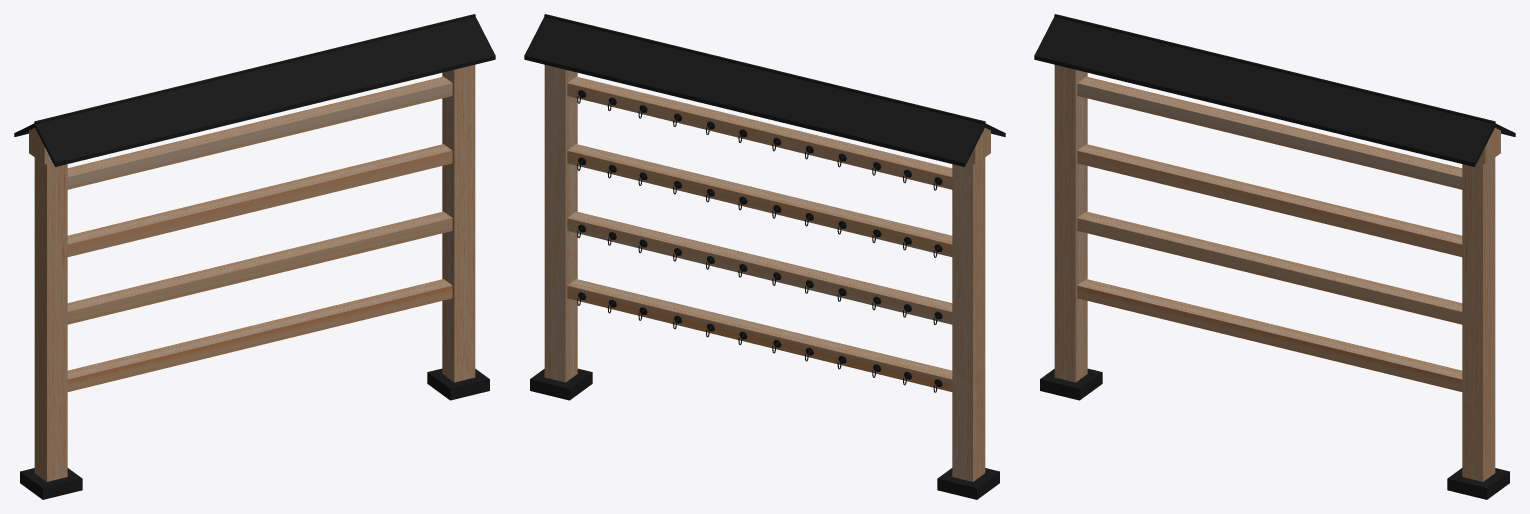
File: 絵馬掛け.fbx
3 views of the same model, side by side, from view 1: azimuth 30°, elevation 25°; view 2: azimuth 150°, elevation 25°; view 3: azimuth 330°, elevation 25° (orthographic).
Parts seen in each view (by area): view 1: 立方体.001; view 2: 立方体.001; view 3: 立方体.001.
Boxes of the visible parts, <box> form: 立方体.001: <box>14,14,495,499</box>; 立方体.001: <box>524,14,1005,499</box>; 立方体.001: <box>1034,14,1515,499</box>.
Size of the model in its own units: 258 by 203 by 40.76.
Materials: 2 (1 with a texture image).
